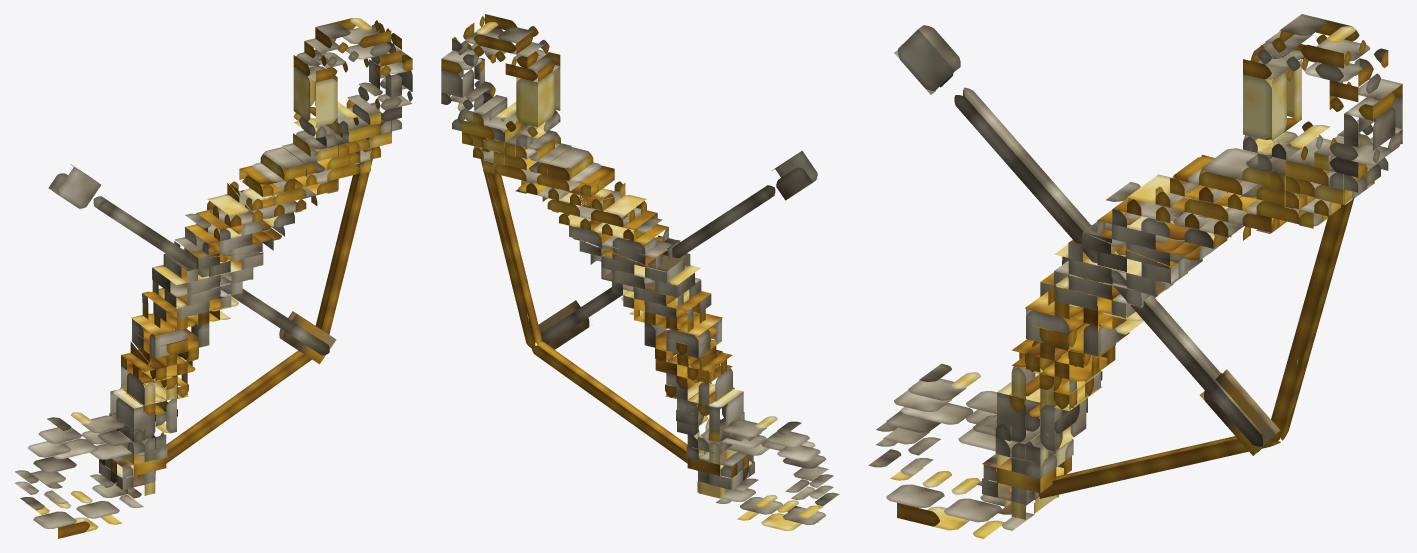
Rendered from khans_horn_pulling_2.obj.
The picture shows the model from 3 angles, left to right: view 1: azimuth 30°, elevation 25°; view 2: azimuth 150°, elevation 25°; view 3: azimuth 330°, elevation 25°; orthographic projection. The views are drawn at different scales.
Parts seen in each view (by area): view 1: lit, fire; view 2: lit, fire; view 3: lit, fire.
Boxes of the visible parts, box(x1,y1,x2,y2) form: lit: box(15, 18, 412, 538); fire: box(138, 136, 374, 477); lit: box(441, 14, 839, 530); fire: box(480, 136, 687, 463); lit: box(868, 14, 1402, 538); fire: box(1034, 198, 1354, 499).
Bounding box in the file's own units: 1.09 × 1.19 × 0.1251.
